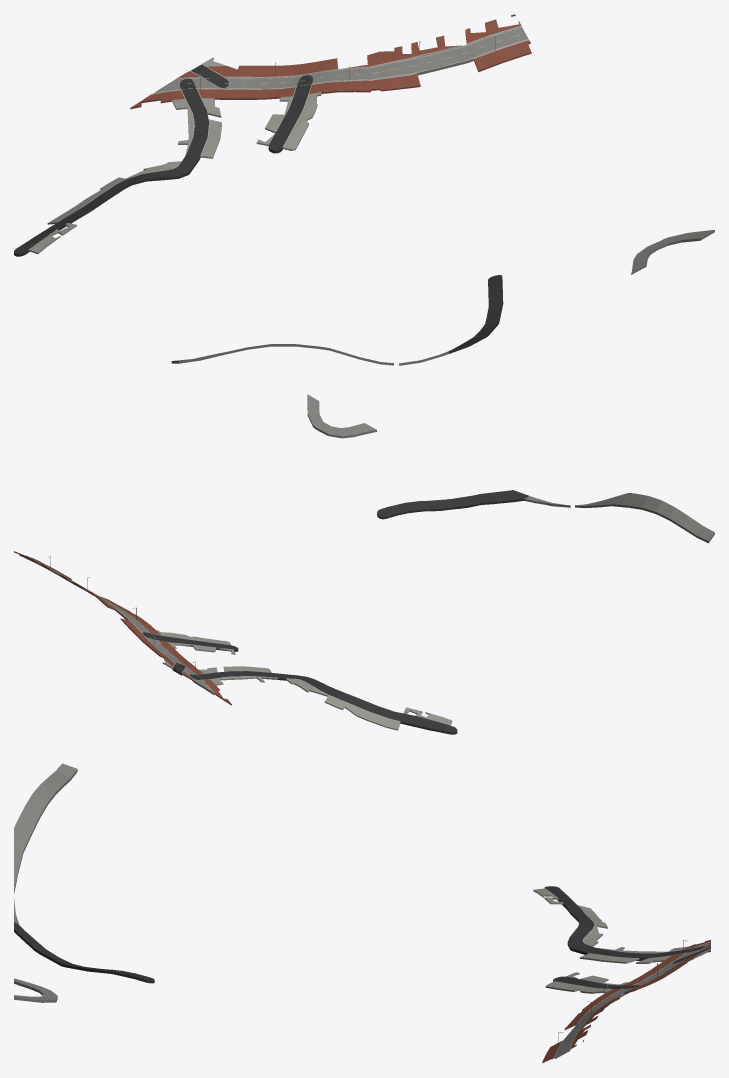
The picture shows the model from 3 angles, top to bottom: view 1: azimuth 30°, elevation 25°; view 2: azimuth 150°, elevation 25°; view 3: azimuth 270°, elevation 25°; orthographic projection. The views are drawn at different scales.
Size of the model in its own units: 294 by 52.22 by 293.
